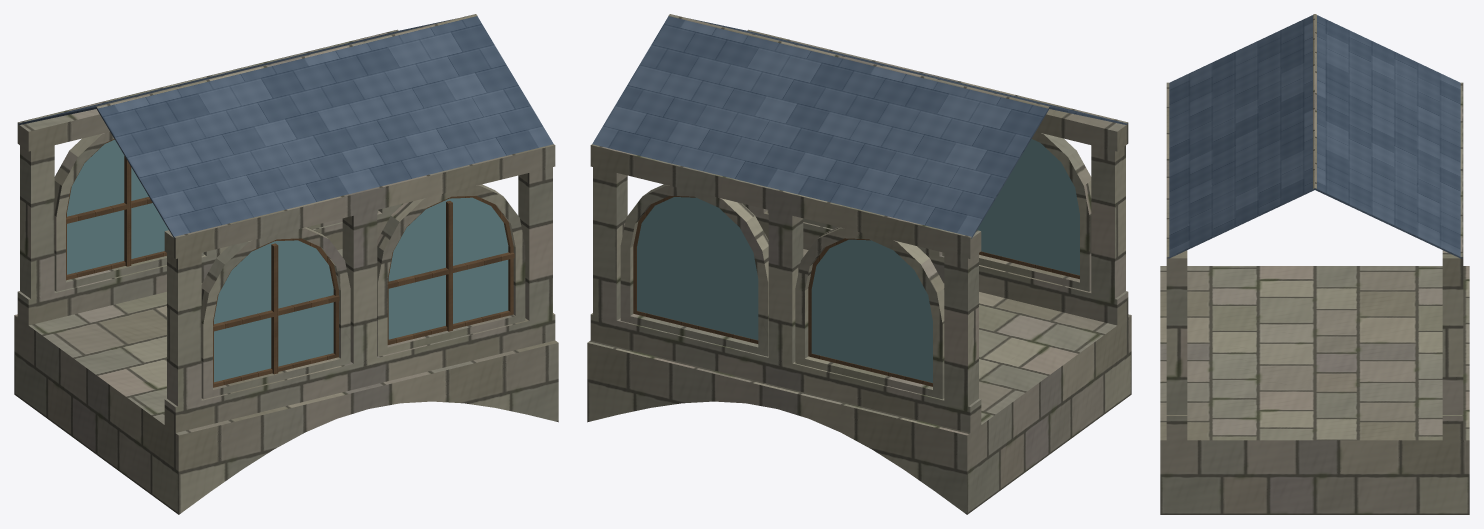
File: Furn_SkyCorridor.fbx
The picture shows the model from 3 angles, left to right: view 1: azimuth 30°, elevation 25°; view 2: azimuth 150°, elevation 25°; view 3: azimuth 270°, elevation 25°; orthographic projection. The views are drawn at different scales.
Parts seen in each view (by area): view 1: Furn_SkyCorridor_Mesh; view 2: Furn_SkyCorridor_Mesh; view 3: Furn_SkyCorridor_Mesh.
Part boxes in pixels (left/top/right/bottom): Furn_SkyCorridor_Mesh: left=14, top=14, right=558, bottom=514; Furn_SkyCorridor_Mesh: left=587, top=14, right=1131, bottom=514; Furn_SkyCorridor_Mesh: left=1160, top=14, right=1469, bottom=514.
Bounding box in the file's own units: 4 × 3.5 × 3.
